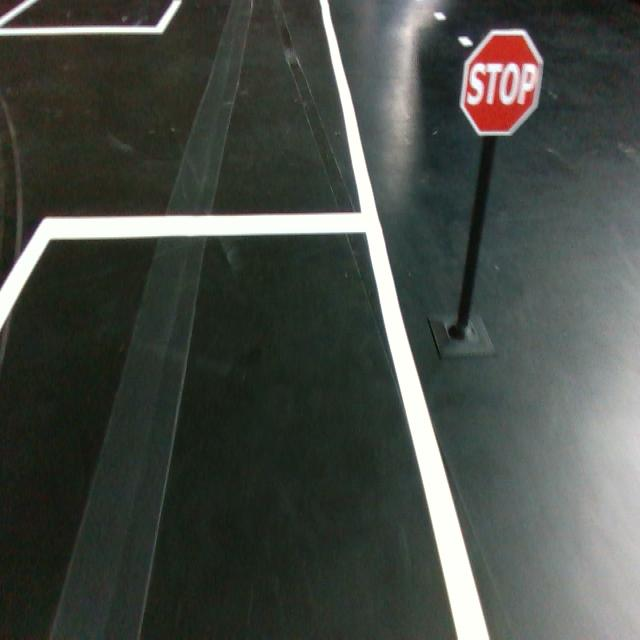stop-sign: (458, 27, 544, 136)
